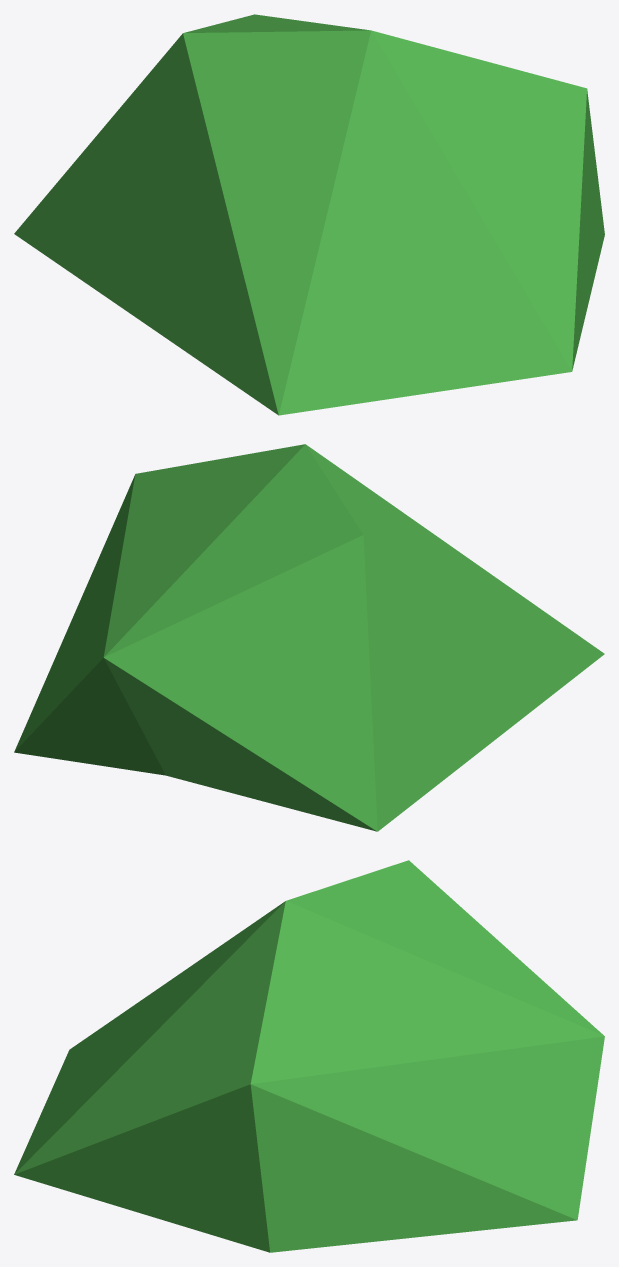
File: rock3.fbx
3 renders of one model, top to bottom at view 1: azimuth 30°, elevation 25°; view 2: azimuth 150°, elevation 25°; view 3: azimuth 270°, elevation 25°, orthographic. The views are drawn at different scales.
Parts seen in each view (by area): view 1: rock 3; view 2: rock 3; view 3: rock 3.
Part boxes in pixels (bbox=[...]): rock 3: bbox=[14, 14, 604, 415]; rock 3: bbox=[14, 444, 604, 831]; rock 3: bbox=[14, 860, 604, 1252].
Bounding box in the file's own units: 222 × 122 × 266.
